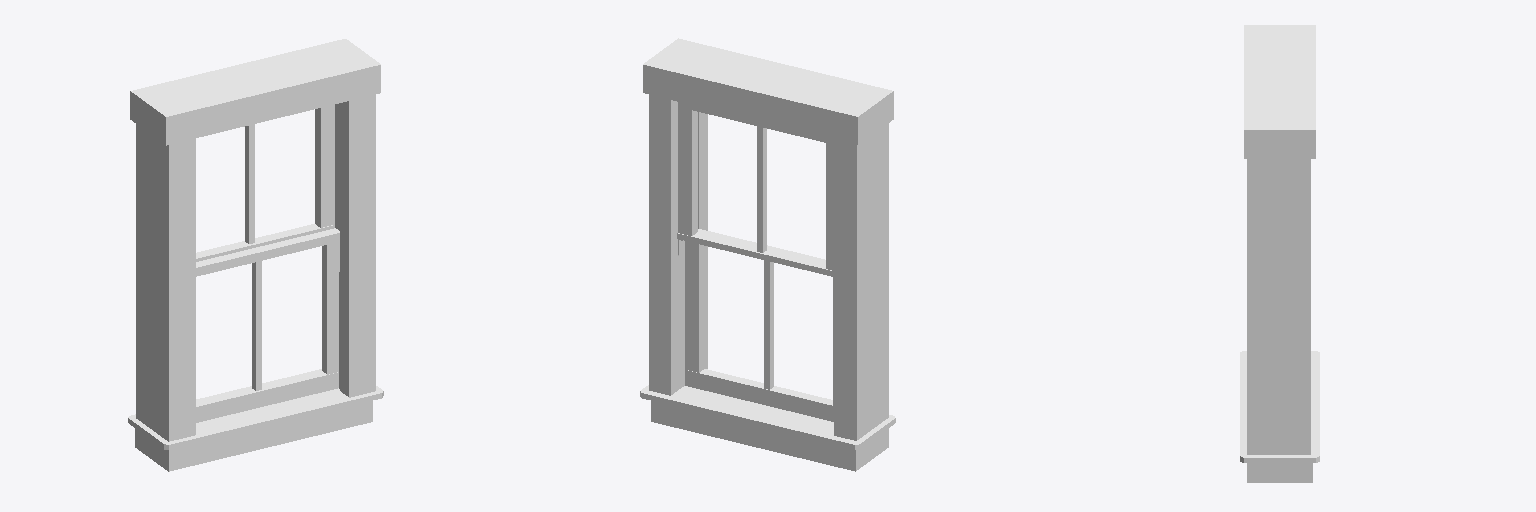
Rendered from window01a.obj.
3 renders of one model, left to right at view 1: azimuth 30°, elevation 25°; view 2: azimuth 150°, elevation 25°; view 3: azimuth 270°, elevation 25°, orthographic.
Visible parts, largest first — view 1: LODGroup_1_MainMesh_1_Submesh_2; view 2: LODGroup_1_MainMesh_1_Submesh_2; view 3: LODGroup_1_MainMesh_1_Submesh_2.
Part boxes in pixels (left/top/right/bottom): LODGroup_1_MainMesh_1_Submesh_2: left=128, top=39, right=383, bottom=471; LODGroup_1_MainMesh_1_Submesh_2: left=640, top=38, right=895, bottom=471; LODGroup_1_MainMesh_1_Submesh_2: left=1240, top=25, right=1319, bottom=482.
Bounding box in the file's own units: 116 × 180 × 36.43.